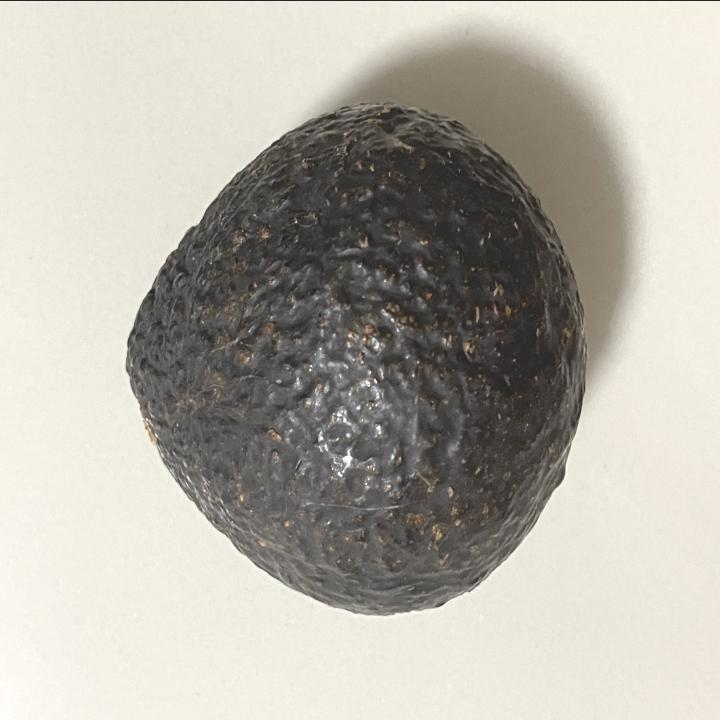Level2: (112, 93, 596, 620)
